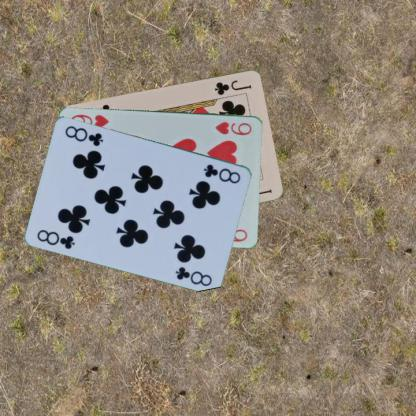8c: (201, 161, 242, 185), (35, 227, 76, 250)
9h: (213, 119, 253, 136)
Jc: (212, 77, 253, 96)
